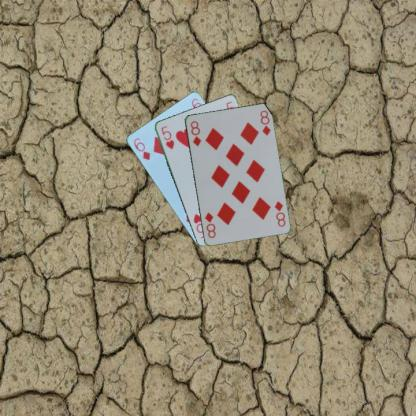5h: (158, 123, 175, 150)
6d: (130, 135, 152, 161)
8d: (272, 198, 286, 228), (188, 118, 202, 147)
